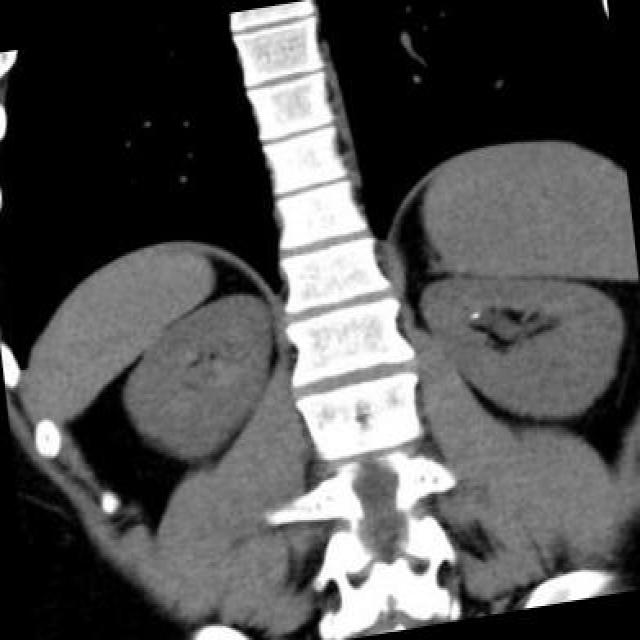Tas_Var: (468, 310, 481, 320)
